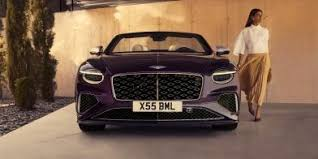car: (73, 29, 244, 136)
